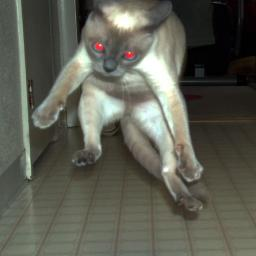catnose: (102, 58, 119, 73)
